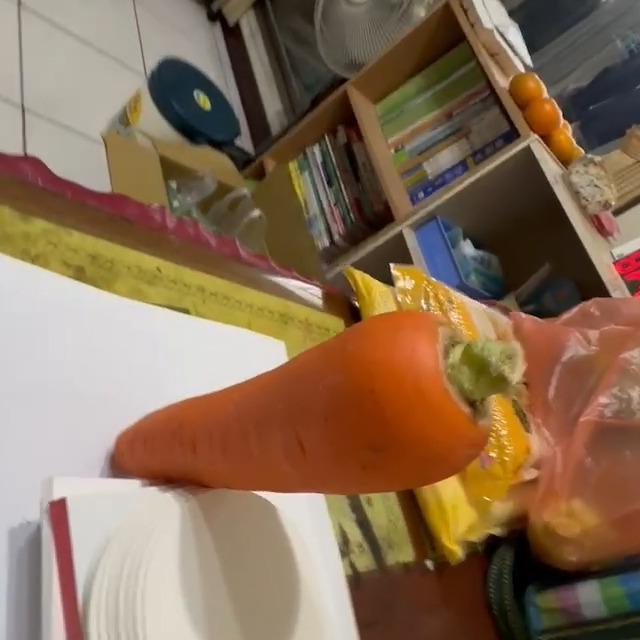carrot: (112, 308, 521, 497)
